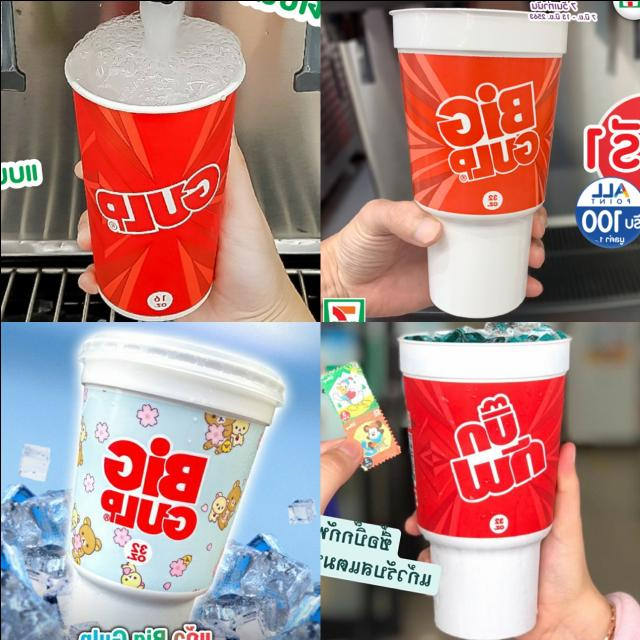plastik: (58, 332, 283, 632), (64, 0, 244, 319), (390, 9, 566, 317), (397, 336, 569, 639)
